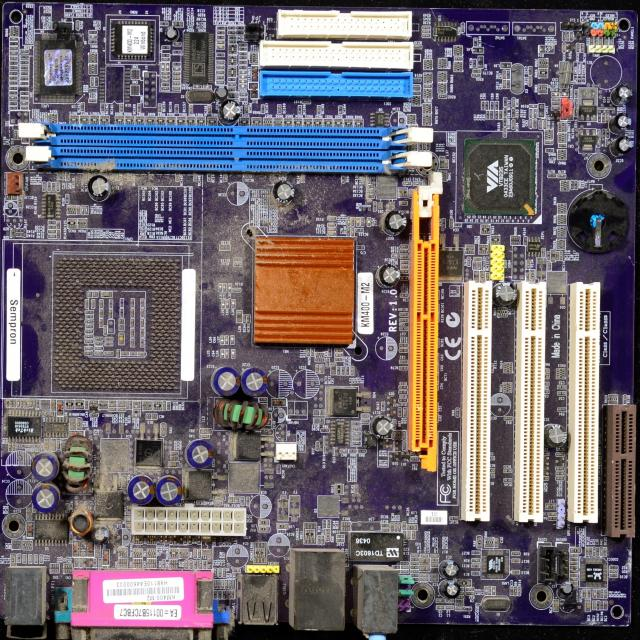Capacitor Jumper: (493, 278, 519, 306), (544, 424, 570, 449), (444, 580, 461, 600), (442, 561, 462, 577), (548, 511, 558, 517), (419, 566, 431, 571), (326, 529, 330, 543), (494, 100, 499, 111), (557, 390, 566, 396), (109, 399, 118, 405), (70, 419, 75, 429), (213, 568, 218, 578), (464, 590, 474, 595), (161, 62, 166, 72), (510, 584, 514, 596), (557, 385, 566, 390), (483, 586, 488, 595), (481, 101, 486, 110), (419, 560, 430, 564), (485, 101, 489, 111), (107, 408, 116, 412), (589, 545, 592, 557), (490, 111, 494, 120), (400, 318, 408, 322), (336, 539, 344, 543), (490, 102, 494, 110), (495, 112, 499, 120), (495, 538, 498, 548), (486, 110, 489, 120), (337, 534, 344, 538), (570, 573, 577, 577), (108, 404, 116, 407), (492, 587, 495, 595), (533, 120, 536, 128), (347, 228, 350, 236), (140, 300, 143, 308), (597, 546, 599, 557), (400, 328, 407, 331), (326, 359, 329, 366), (571, 582, 578, 585), (240, 80, 247, 83), (545, 149, 552, 152), (367, 219, 370, 226), (225, 348, 227, 358), (225, 337, 228, 343), (199, 435, 208, 437), (403, 522, 405, 531), (93, 560, 96, 566), (568, 562, 577, 564), (506, 80, 509, 86), (204, 85, 210, 88), (401, 265, 407, 268), (223, 283, 225, 292), (89, 36, 97, 38), (544, 382, 548, 386), (556, 473, 564, 475), (166, 63, 168, 71), (131, 299, 133, 307), (226, 300, 228, 308), (400, 360, 405, 363), (224, 570, 226, 577), (437, 606, 444, 608), (162, 83, 169, 85), (500, 112, 502, 119), (400, 255, 407, 257), (347, 368, 349, 374), (86, 402, 88, 408), (118, 404, 124, 406), (90, 42, 96, 44), (529, 67, 531, 73), (507, 72, 509, 78), (454, 224, 460, 226), (571, 567, 576, 569), (438, 600, 443, 602), (240, 71, 245, 73), (240, 76, 245, 78), (240, 85, 245, 87), (554, 93, 557, 96), (338, 367, 339, 375), (357, 218, 358, 226), (476, 257, 480, 259), (329, 349, 330, 356), (576, 181, 577, 188), (342, 368, 343, 374), (562, 94, 568, 95), (547, 391, 548, 393), (570, 560, 576, 560)
Connector: (63, 150, 374, 166), (59, 128, 372, 143), (523, 294, 541, 522), (578, 292, 596, 514), (418, 231, 435, 446), (472, 284, 484, 511), (616, 408, 632, 528)
IC: (187, 33, 210, 81), (6, 416, 44, 438), (36, 519, 66, 540), (486, 554, 506, 575), (331, 421, 347, 444), (580, 99, 598, 118), (586, 562, 603, 581), (48, 421, 67, 434), (582, 131, 595, 149), (436, 26, 455, 37), (47, 195, 54, 218), (530, 240, 539, 252), (376, 114, 383, 126), (566, 602, 574, 610), (558, 144, 566, 148)
Resistor Jumper: (341, 521, 350, 531), (477, 534, 482, 550), (239, 42, 248, 48), (420, 576, 429, 582), (472, 72, 481, 78), (340, 175, 346, 184), (622, 394, 627, 404), (77, 419, 82, 429), (322, 520, 327, 530), (430, 554, 440, 559), (65, 194, 70, 204), (326, 216, 336, 221), (327, 222, 337, 227), (87, 30, 99, 34), (347, 215, 351, 227), (216, 30, 225, 35), (239, 51, 248, 56), (239, 65, 248, 70), (422, 25, 431, 30), (576, 42, 580, 53), (215, 52, 226, 56), (488, 585, 492, 596), (512, 97, 516, 108), (56, 181, 60, 192), (76, 20, 80, 31), (421, 30, 431, 34), (215, 496, 223, 501), (328, 520, 332, 530), (320, 536, 325, 544), (317, 535, 321, 545), (410, 554, 420, 558), (609, 565, 619, 569), (239, 55, 247, 60), (218, 568, 222, 578), (421, 573, 429, 578), (239, 61, 247, 66), (548, 173, 556, 178), (557, 174, 567, 178), (368, 176, 372, 186), (85, 205, 89, 215), (524, 236, 528, 246), (235, 26, 245, 30), (557, 407, 566, 411), (161, 424, 165, 433), (593, 547, 597, 556), (420, 554, 429, 558), (400, 565, 409, 569), (514, 587, 518, 596), (47, 182, 51, 191), (467, 257, 471, 266), (392, 565, 399, 570), (450, 218, 453, 229), (228, 31, 236, 35), (228, 40, 236, 44), (504, 417, 512, 421), (356, 449, 364, 453), (259, 528, 267, 532), (472, 559, 480, 563), (466, 587, 474, 591), (48, 234, 56, 238), (526, 260, 530, 268), (227, 26, 235, 30), (238, 47, 248, 50), (410, 559, 420, 562), (79, 557, 82, 567), (462, 22, 465, 32), (162, 402, 166, 409), (401, 560, 408, 564), (401, 276, 408, 280), (548, 517, 557, 520), (600, 547, 603, 556), (98, 559, 101, 568), (228, 78, 237, 81), (43, 182, 46, 191), (217, 27, 226, 30), (236, 31, 244, 34), (137, 352, 145, 355), (393, 418, 396, 426), (75, 558, 78, 566), (610, 570, 618, 573), (512, 109, 515, 117), (601, 131, 605, 137), (13, 131, 16, 139), (545, 141, 553, 144), (81, 206, 84, 214), (48, 230, 56, 233), (86, 310, 94, 313), (518, 586, 520, 597), (400, 368, 407, 371), (218, 36, 225, 39), (89, 414, 96, 417), (414, 45, 421, 48), (173, 68, 180, 71), (413, 79, 420, 82), (512, 121, 515, 128), (233, 263, 240, 266), (96, 343, 101, 347), (457, 408, 459, 418), (341, 448, 346, 452), (86, 341, 92, 344), (362, 419, 368, 422), (321, 429, 327, 432), (397, 432, 400, 438), (348, 450, 354, 453), (412, 457, 418, 460), (10, 51, 16, 54), (403, 532, 406, 538), (10, 61, 16, 64), (597, 131, 600, 137), (571, 182, 574, 188), (18, 199, 20, 208), (15, 229, 24, 231), (85, 335, 93, 337), (307, 348, 309, 356), (229, 36, 237, 38), (351, 368, 353, 376), (352, 433, 360, 435), (394, 430, 396, 438), (316, 442, 318, 450), (572, 549, 580, 551), (186, 560, 188, 568), (10, 72, 18, 74), (161, 79, 169, 81), (360, 218, 362, 226), (560, 252, 562, 260), (105, 352, 110, 355), (571, 569, 576, 572), (95, 79, 98, 84), (441, 95, 446, 98), (531, 105, 536, 108), (401, 244, 406, 247), (400, 344, 407, 346), (400, 392, 407, 394), (404, 408, 406, 415), (403, 431, 405, 438), (353, 436, 360, 438), (353, 442, 360, 444), (403, 443, 405, 450), (162, 560, 164, 567), (190, 560, 192, 567), (21, 56, 28, 58), (600, 590, 602, 597), (598, 602, 600, 609), (162, 72, 169, 74), (21, 78, 28, 80), (240, 92, 247, 94), (504, 109, 506, 116), (530, 110, 532, 117), (504, 118, 506, 125), (529, 120, 531, 127), (540, 121, 542, 128), (504, 129, 506, 136), (442, 220, 444, 227), (352, 228, 354, 235), (233, 289, 240, 291), (311, 349, 313, 355), (85, 352, 91, 354), (590, 38, 592, 44), (606, 38, 608, 44), (400, 409, 402, 415), (202, 429, 208, 431), (563, 44, 565, 50), (215, 502, 221, 504), (570, 578, 576, 580), (604, 590, 606, 596), (303, 102, 309, 104), (534, 110, 536, 116), (420, 143, 422, 149), (392, 254, 398, 256), (563, 34, 565, 39), (401, 386, 406, 388), (400, 400, 405, 402), (91, 404, 96, 406), (600, 39, 602, 44), (610, 39, 612, 44), (10, 47, 15, 49), (408, 532, 410, 537), (513, 552, 518, 554), (22, 61, 27, 63), (414, 88, 419, 90), (414, 92, 419, 94), (396, 523, 397, 532), (91, 77, 92, 86), (38, 400, 39, 408), (12, 42, 16, 44), (399, 522, 400, 530), (12, 67, 16, 69), (402, 270, 406, 272), (423, 36, 430, 37), (361, 415, 368, 416), (556, 478, 563, 479), (195, 550, 196, 557), (173, 87, 180, 88), (16, 234, 23, 235), (96, 338, 102, 339), (557, 468, 563, 469), (162, 88, 168, 89), (545, 121, 546, 127), (607, 132, 608, 138), (598, 140, 599, 146), (424, 143, 425, 149), (427, 143, 428, 149), (571, 34, 572, 39), (353, 429, 358, 430), (163, 77, 168, 78), (553, 99, 558, 100), (553, 107, 558, 108), (400, 251, 405, 252), (573, 587, 577, 588), (568, 34, 568, 40), (492, 364, 492, 372), (530, 78, 530, 85)
Transistor: (327, 389, 356, 413), (136, 441, 162, 467), (441, 252, 459, 276), (400, 454, 408, 463), (380, 440, 388, 448), (393, 453, 399, 461), (388, 408, 394, 415), (576, 32, 582, 38), (388, 397, 393, 404), (84, 558, 88, 566), (91, 407, 98, 411)
